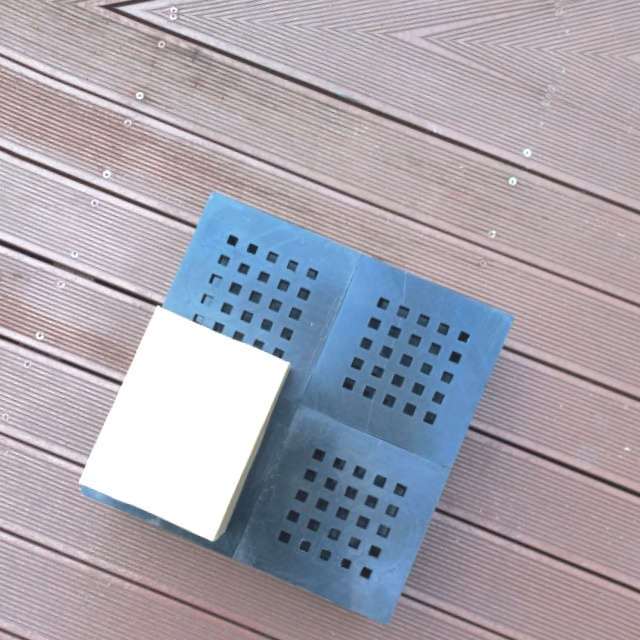box: (77, 298, 293, 550)
pallet: (95, 177, 522, 637)
